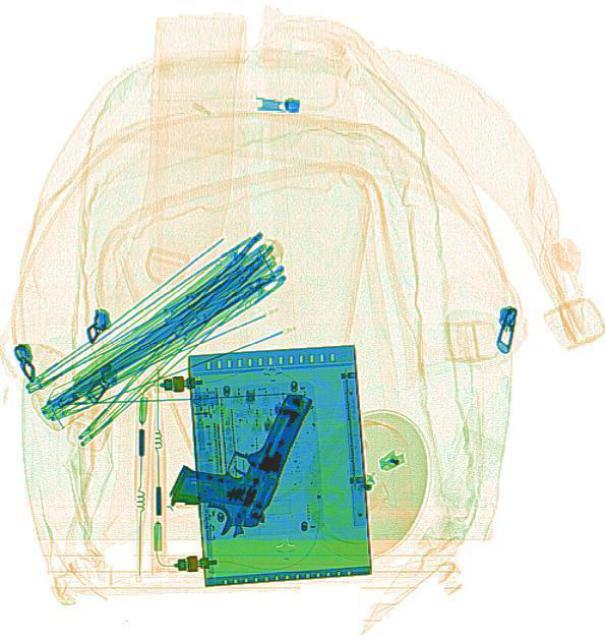Gun: (162, 366, 309, 544)
